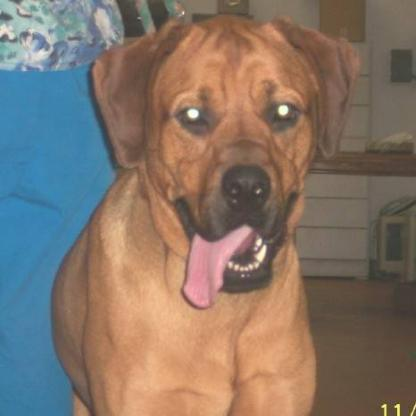dog: (84, 0, 376, 332)
